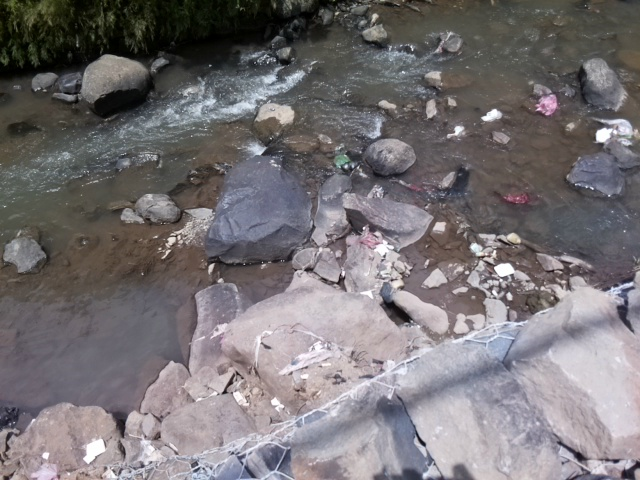Sampah_Plastik: (357, 227, 384, 249), (536, 94, 561, 116), (499, 190, 532, 206), (615, 118, 634, 144)
Sampah_Styrofoam: (82, 440, 108, 457), (493, 262, 516, 277), (481, 106, 500, 123), (595, 127, 611, 144)
